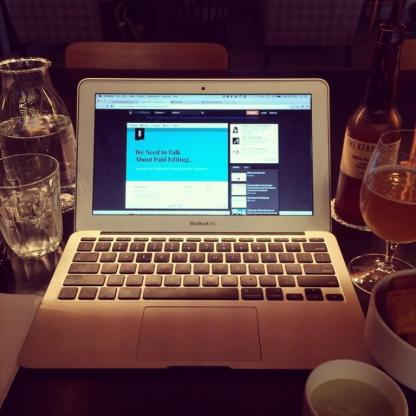board: (17, 76, 366, 378), (335, 17, 404, 229)
